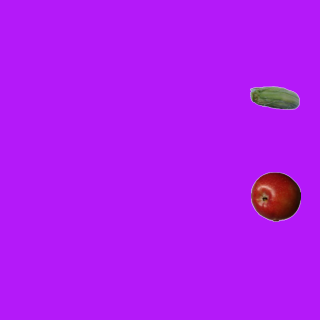Apple Braeburn: (250, 171, 300, 221)
Corn Husk: (249, 74, 299, 124)
